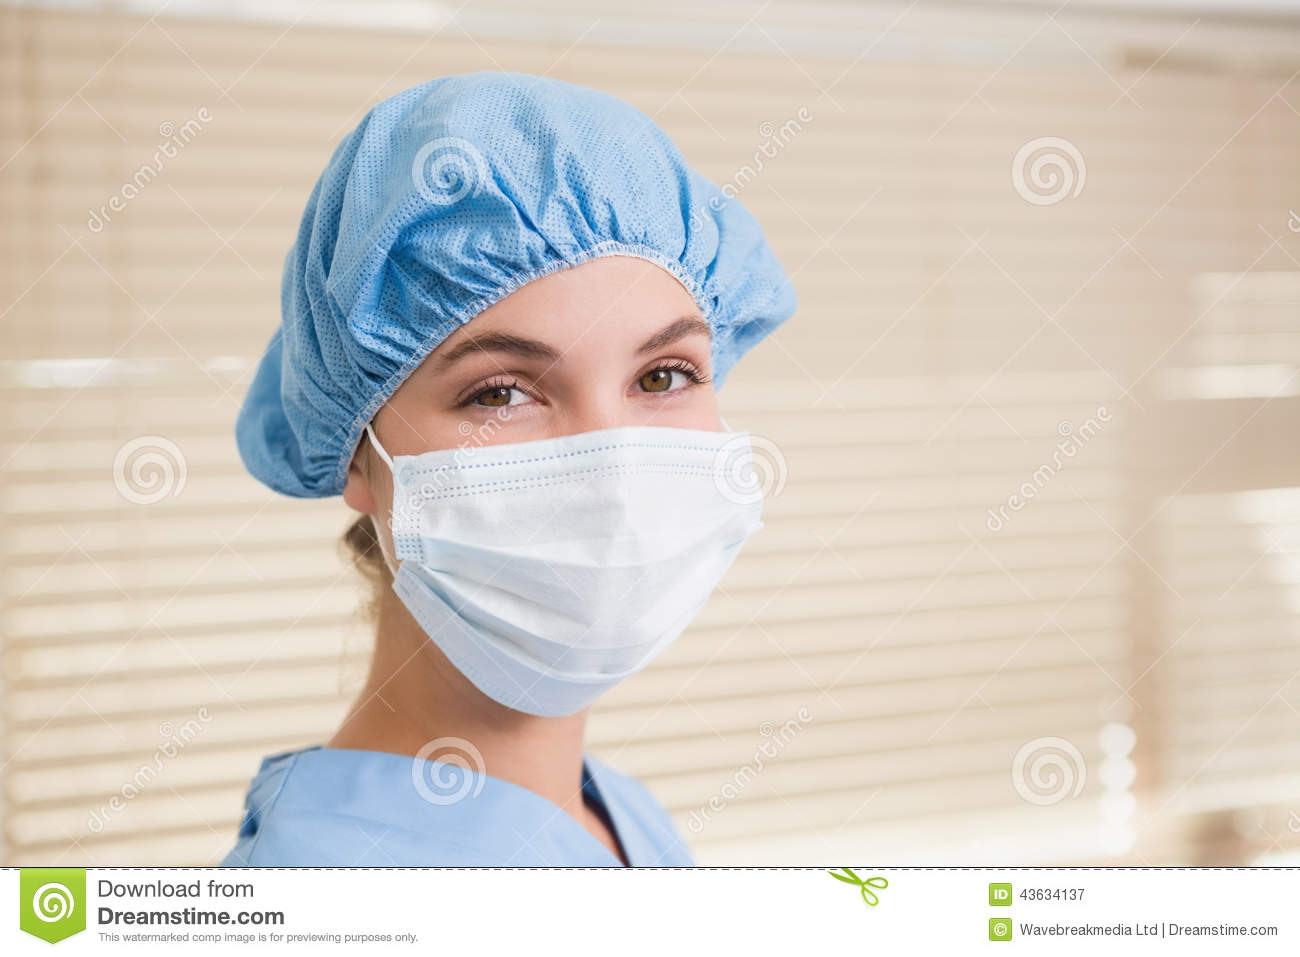mask: (375, 413, 770, 739)
